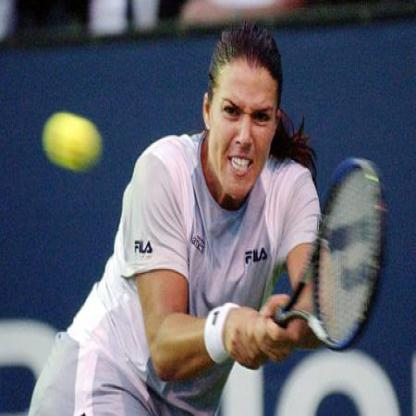face: (211, 35, 279, 201)
